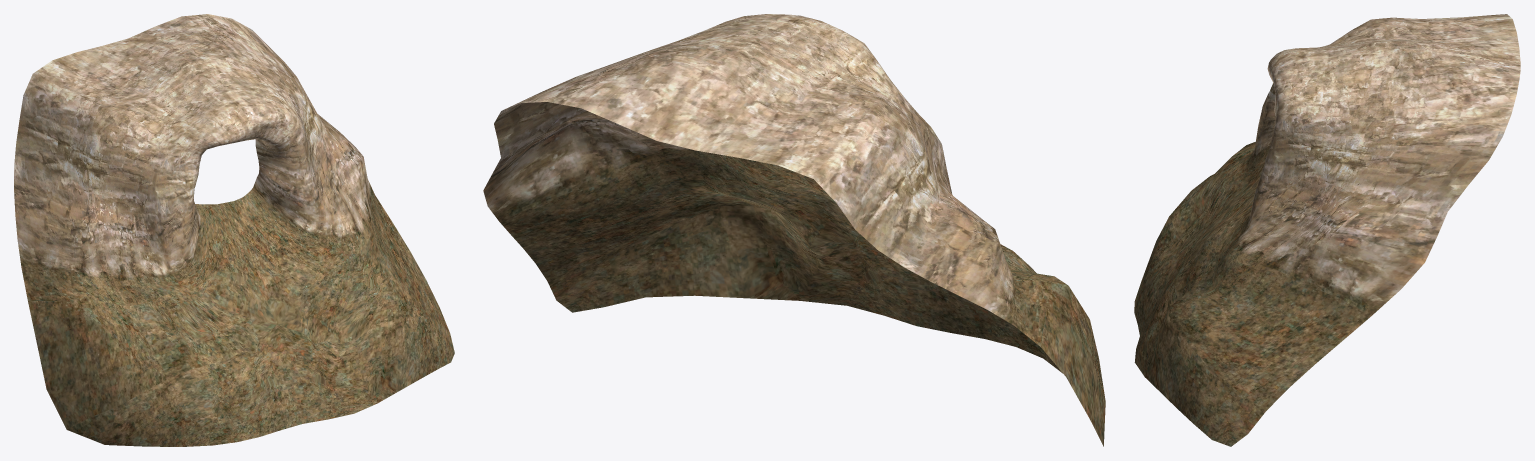
File: thm_all_cave_s02_mirror_r0_mesh_l0.fbx
3 renders of one model, left to right at view 1: azimuth 30°, elevation 25°; view 2: azimuth 150°, elevation 25°; view 3: azimuth 270°, elevation 25°, orthographic. The views are drawn at different scales.
Visible parts, largest first — view 1: mesh_node; view 2: mesh_node; view 3: mesh_node.
Boxes of the visible parts, left/top/right/bottom form: mesh_node: left=14, top=14, right=454, bottom=446; mesh_node: left=483, top=14, right=1105, bottom=446; mesh_node: left=1134, top=14, right=1520, bottom=446.
Bounding box in the file's own units: 48.97 × 34.28 × 39.36.
